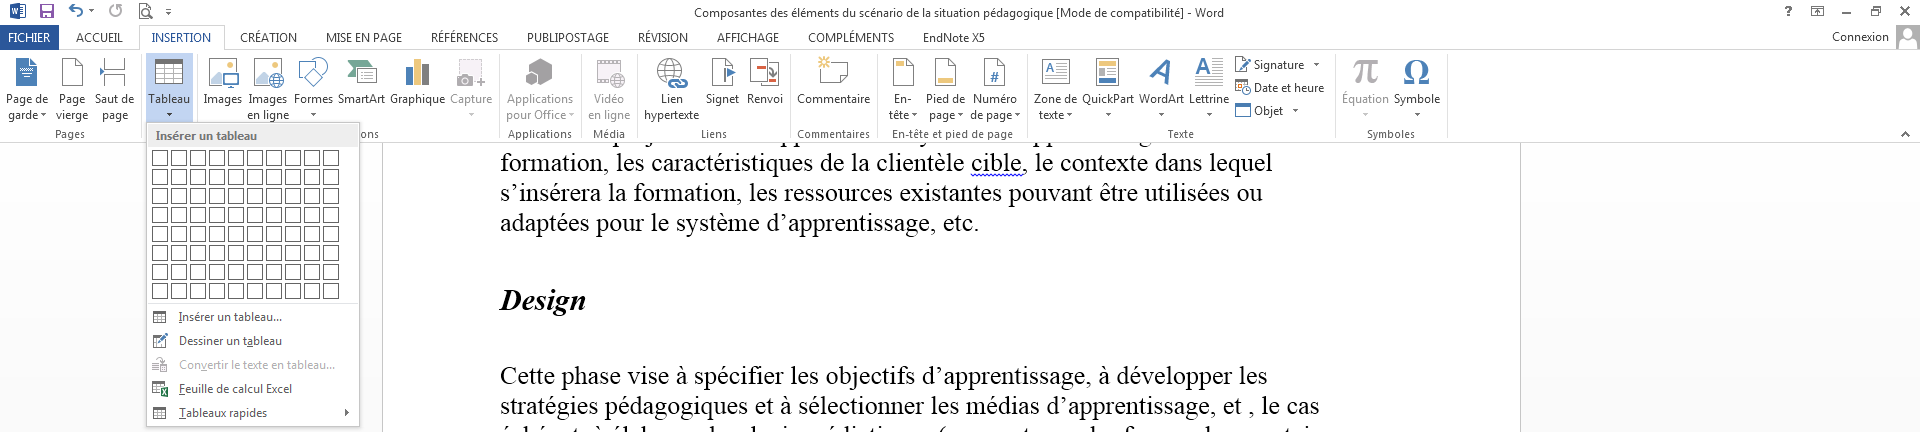texte: (156, 58, 377, 88), (651, 140, 812, 181), (152, 207, 339, 242), (152, 151, 339, 185), (767, 213, 936, 237), (923, 366, 1091, 390), (1047, 397, 1215, 420), (658, 58, 779, 88), (605, 397, 747, 420), (16, 58, 125, 86), (152, 245, 339, 261), (152, 264, 339, 280), (152, 283, 339, 299), (1117, 366, 1232, 390), (877, 143, 964, 171), (634, 184, 741, 206), (500, 289, 585, 316), (501, 153, 609, 174), (501, 213, 589, 237), (696, 366, 784, 390), (800, 397, 924, 414), (501, 398, 598, 420), (827, 366, 913, 390), (677, 213, 759, 237), (1009, 185, 1092, 207), (691, 0, 765, 24), (900, 184, 1000, 201), (893, 58, 956, 84), (231, 188, 339, 204), (1113, 0, 1183, 24), (501, 184, 600, 201), (1210, 153, 1272, 177), (781, 130, 869, 147), (10, 2, 94, 20), (1145, 184, 1229, 201), (561, 366, 620, 390), (152, 117, 195, 151), (217, 117, 260, 151), (1060, 155, 1149, 171), (1190, 75, 1229, 110), (1236, 56, 1319, 72), (1082, 84, 1134, 110), (784, 188, 891, 201), (966, 397, 1040, 414), (972, 153, 1027, 174), (152, 188, 223, 204), (180, 337, 280, 348), (179, 408, 267, 420), (1142, 84, 1184, 110), (594, 128, 651, 147), (179, 312, 272, 323), (860, 0, 901, 24), (309, 53, 331, 98), (179, 384, 262, 395), (1140, 130, 1193, 147), (501, 367, 553, 384), (893, 128, 940, 147), (596, 219, 644, 237), (613, 143, 644, 171), (1156, 153, 1202, 171), (818, 56, 849, 82), (628, 366, 669, 384), (809, 33, 894, 42), (987, 9, 1051, 20), (528, 33, 609, 42), (645, 110, 699, 122), (1100, 184, 1138, 201), (392, 94, 444, 106), (508, 130, 571, 140), (798, 94, 869, 103), (1404, 60, 1429, 84), (971, 110, 1020, 122), (432, 33, 498, 42), (407, 59, 429, 84), (984, 58, 1005, 84), (1343, 94, 1389, 106), (1395, 94, 1440, 106), (140, 2, 171, 20), (944, 215, 978, 231), (1833, 32, 1888, 42), (718, 33, 778, 42), (924, 33, 984, 42), (1150, 60, 1171, 84), (152, 33, 211, 42), (7, 94, 48, 106), (249, 110, 289, 122), (589, 110, 629, 122), (791, 366, 818, 384), (1240, 366, 1267, 384), (1036, 143, 1053, 171), (749, 184, 778, 201), (931, 397, 959, 414), (241, 33, 296, 42), (249, 94, 287, 106), (9, 110, 47, 122), (1368, 130, 1414, 140), (204, 94, 241, 106), (820, 153, 844, 171), (453, 95, 491, 106), (234, 312, 272, 323), (242, 337, 280, 348), (973, 21, 987, 51), (639, 33, 687, 42), (707, 94, 740, 106), (200, 117, 212, 151), (76, 33, 122, 42), (1287, 401, 1319, 414), (339, 94, 384, 103), (793, 9, 838, 17), (936, 9, 980, 17), (973, 94, 1016, 103), (327, 33, 369, 42), (1057, 9, 1089, 20), (1100, 61, 1116, 83), (9, 33, 49, 42), (148, 94, 189, 103), (231, 384, 262, 395), (96, 94, 133, 103), (927, 94, 965, 103), (219, 299, 229, 332), (228, 322, 238, 355), (295, 94, 332, 103), (852, 153, 869, 171), (609, 184, 627, 201), (1237, 188, 1262, 201), (651, 213, 669, 231), (56, 113, 88, 122), (931, 113, 962, 122), (1255, 106, 1283, 117), (60, 94, 84, 106), (748, 94, 782, 103), (1262, 397, 1280, 414), (784, 397, 862, 400), (56, 130, 84, 140), (756, 398, 773, 414), (525, 55, 531, 97), (1224, 398, 1240, 414), (103, 113, 129, 122), (1296, 83, 1324, 92), (889, 110, 917, 119), (1040, 111, 1071, 119), (373, 33, 400, 42), (1033, 94, 1060, 103), (153, 333, 168, 348), (219, 373, 227, 403), (1196, 58, 1210, 73), (702, 130, 726, 138), (267, 384, 291, 393), (947, 130, 967, 140), (677, 366, 688, 384), (1201, 9, 1223, 17), (1256, 83, 1278, 92), (1100, 366, 1109, 384), (602, 94, 623, 103), (988, 132, 1011, 140), (662, 94, 682, 103), (153, 311, 167, 323), (152, 381, 165, 393), (153, 408, 167, 419), (771, 9, 787, 17), (895, 94, 911, 103), (781, 401, 792, 414), (1238, 80, 1245, 95), (1095, 9, 1107, 17), (1065, 94, 1078, 103), (361, 132, 378, 138), (972, 130, 983, 138), (845, 9, 855, 17), (907, 9, 917, 17), (1046, 62, 1054, 72), (160, 387, 168, 397), (638, 100, 640, 127), (1282, 84, 1291, 92), (1785, 6, 1791, 16), (562, 97, 572, 103), (923, 9, 929, 17), (345, 409, 349, 416), (561, 113, 564, 119), (167, 113, 171, 116), (311, 113, 316, 116), (1106, 113, 1111, 116), (1160, 113, 1164, 116), (1207, 113, 1212, 116), (1293, 109, 1298, 113), (1416, 113, 1420, 116), (1250, 412, 1253, 419), (550, 397, 553, 399), (623, 397, 626, 400), (572, 397, 576, 398), (696, 397, 698, 398), (1149, 397, 1151, 398), (1189, 13, 1191, 13)
